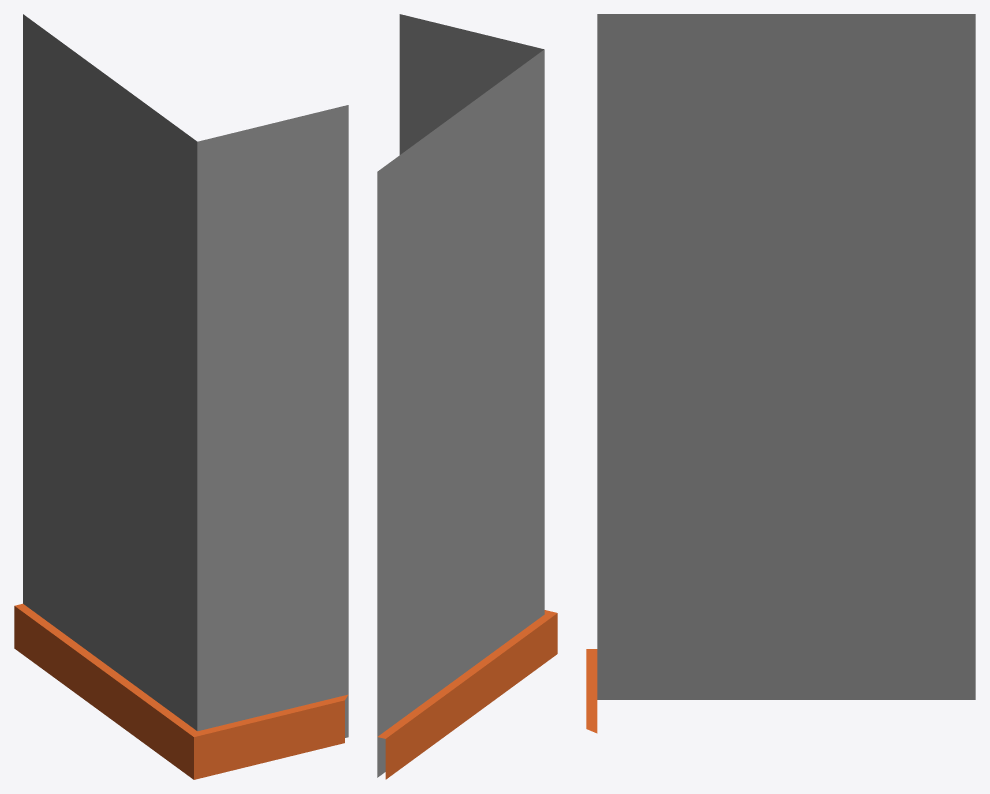
File: ModuleD_corner_inver4.FBX
3 renders of one model, left to right at view 1: azimuth 30°, elevation 25°; view 2: azimuth 150°, elevation 25°; view 3: azimuth 270°, elevation 25°, orthographic. The views are drawn at different scales.
Visible parts, largest first — view 1: ModuleD_wall_07, ModuleD_skboard_09; view 2: ModuleD_wall_07, ModuleD_skboard_09; view 3: ModuleD_wall_07, ModuleD_skboard_09.
Part boxes in pixels (x1,y1,x2,y2): ModuleD_wall_07: (23,14,348,737); ModuleD_skboard_09: (14,603,347,779); ModuleD_wall_07: (377,14,544,777); ModuleD_skboard_09: (378,610,557,779); ModuleD_wall_07: (597,14,975,699); ModuleD_skboard_09: (586,649,597,733).
Bounding box in the file's own units: 20.81 × 40.52 × 78.74.
